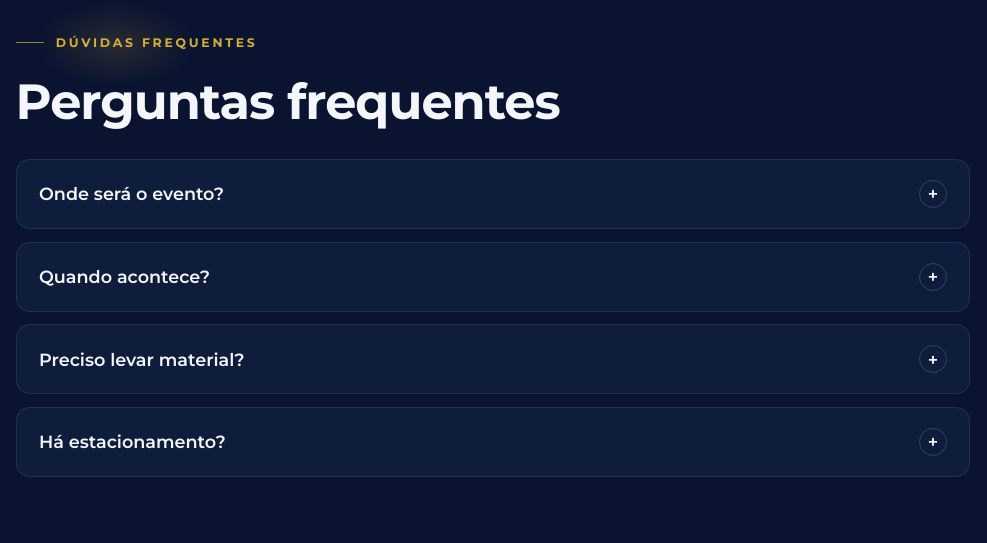
Test case: FaqSection › single-open behavior (Req 12.2/12.3/12.5) › expands a clicked item and reveals its panel
This screenshot has width=987, height=543.
Click the button "Onde será o evento? +": (132,194) [16,160,969,228]
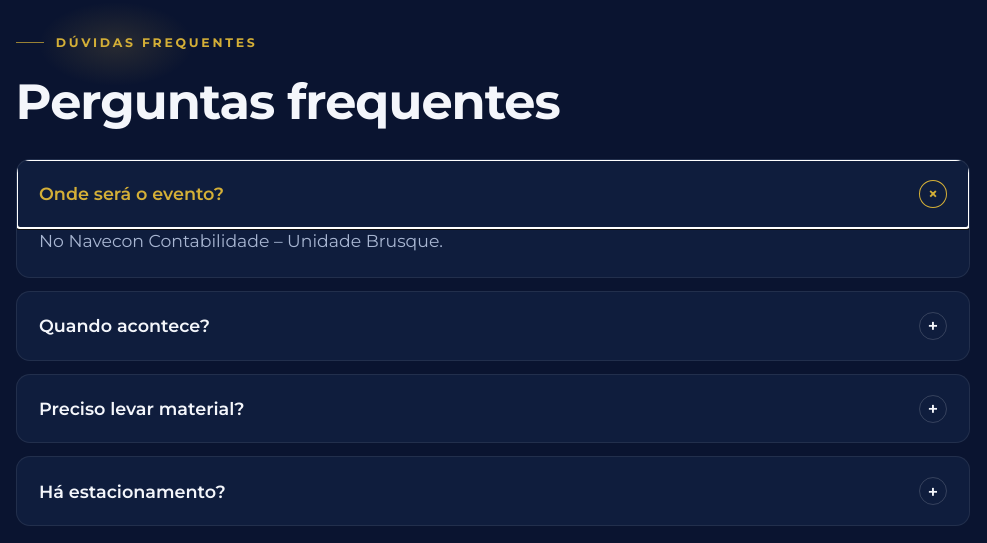
Expected: the button "Onde será o evento? +" is expanded, [16,160,969,228]
